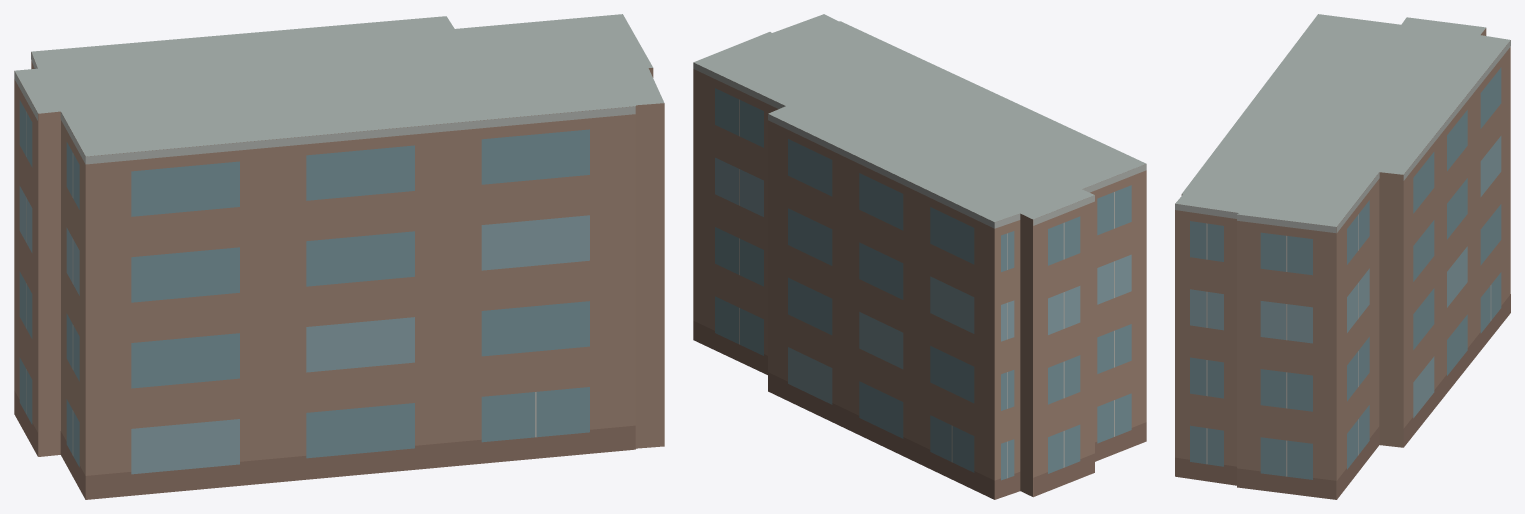
File: survey-upis-32632291.glb
3 views of the same model, side by side, from view 1: azimuth 30°, elevation 25°; view 2: azimuth 150°, elevation 25°; view 3: azimuth 270°, elevation 25° (orthographic). The views are drawn at different scales.
Visible parts, largest first — view 1: survey-upis-32632291.tmp; view 2: survey-upis-32632291.tmp; view 3: survey-upis-32632291.tmp.
Part boxes in pixels (x1=…): survey-upis-32632291.tmp: x1=14, y1=14, x2=664, y2=499; survey-upis-32632291.tmp: x1=693, y1=14, x2=1146, y2=499; survey-upis-32632291.tmp: x1=1175, y1=14, x2=1510, y2=499.
Size of the model in its own units: 17.58 by 10.5 by 11.71.
